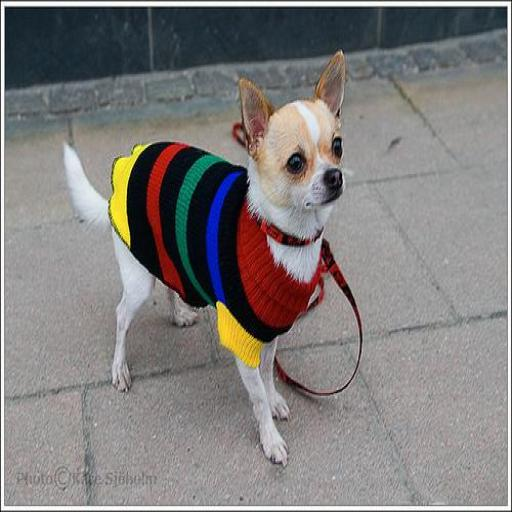dog_face: (238, 48, 347, 219)
